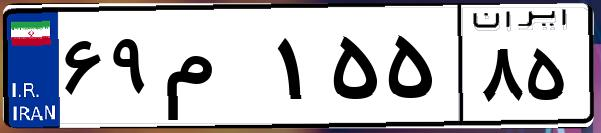1: (270, 28, 330, 110)
5: (385, 28, 445, 110), (330, 28, 385, 110), (525, 38, 570, 115)
6: (57, 26, 110, 100)
8: (475, 38, 525, 113)
9: (110, 28, 158, 98)
م: (158, 20, 270, 120)
